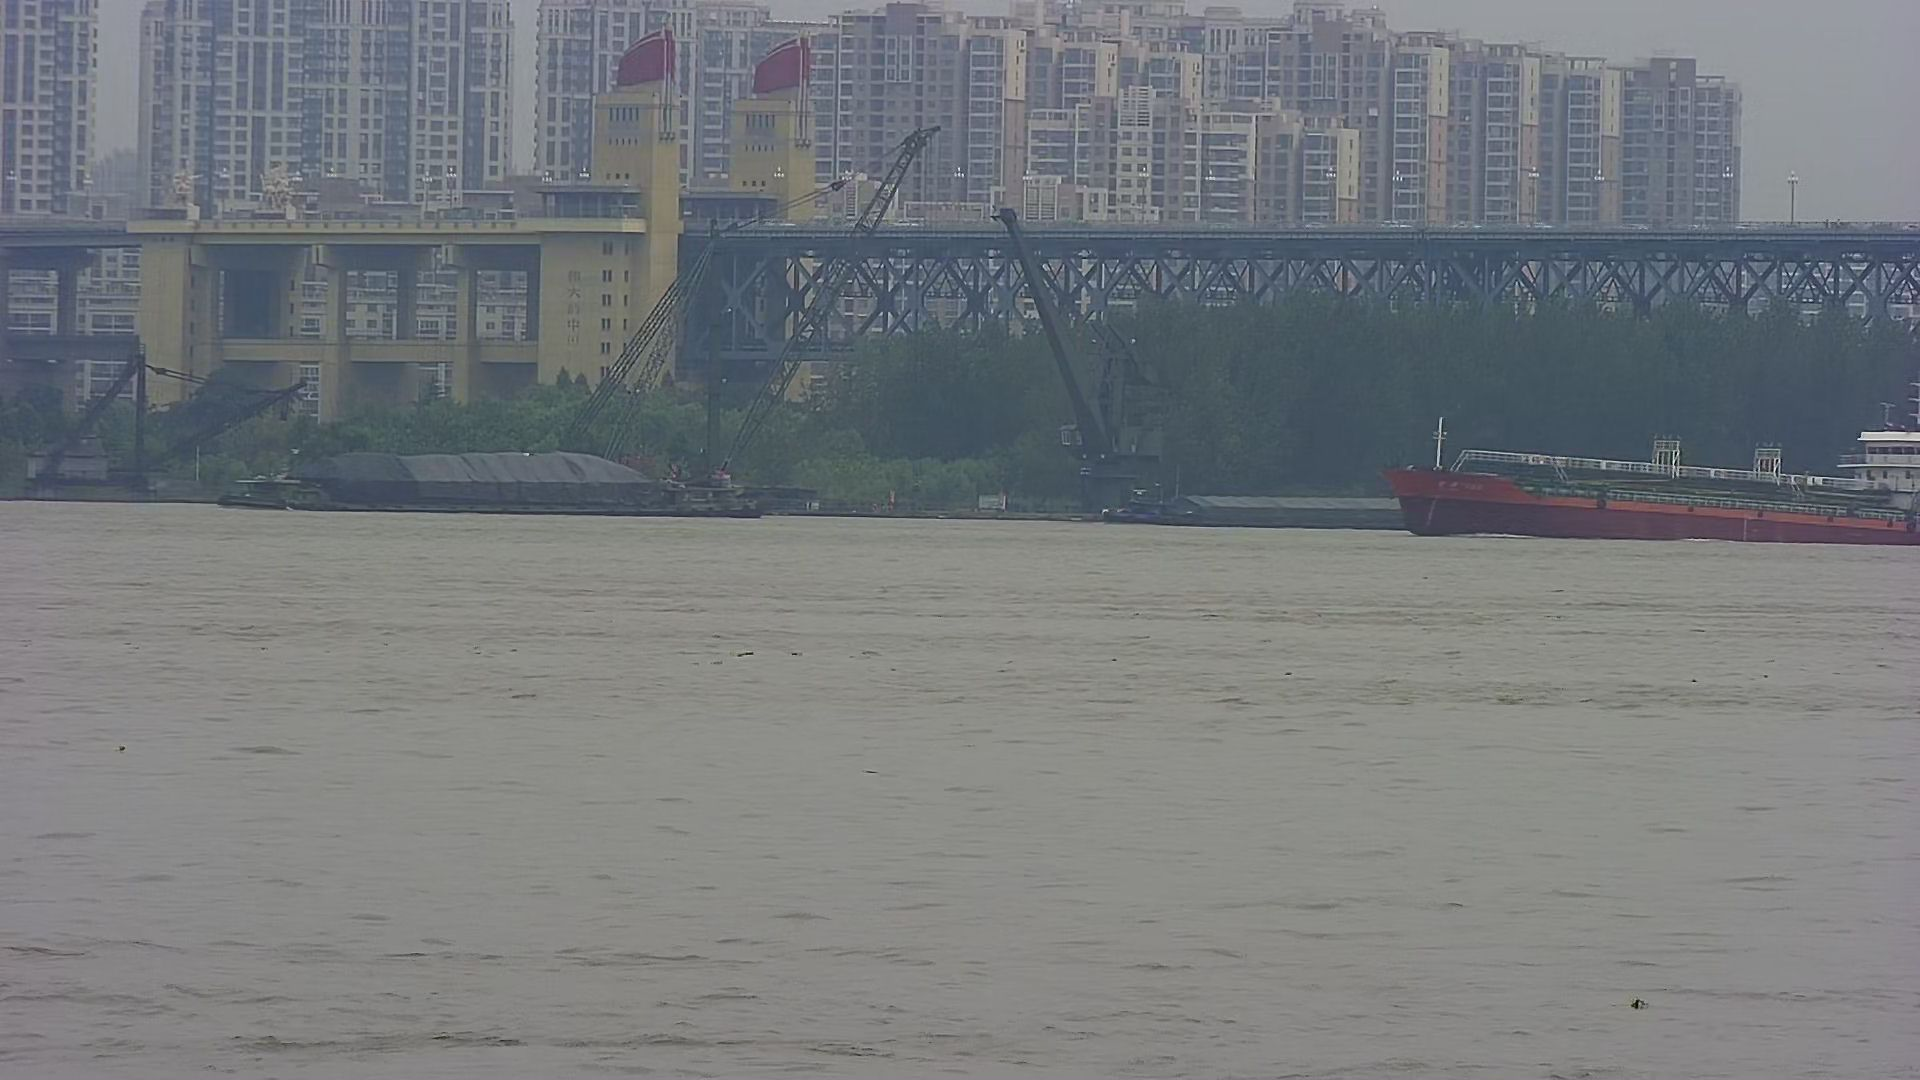bridge: (667, 207, 1920, 404)
ship: (1378, 369, 1920, 560), (207, 435, 785, 520), (1096, 480, 1415, 539)
